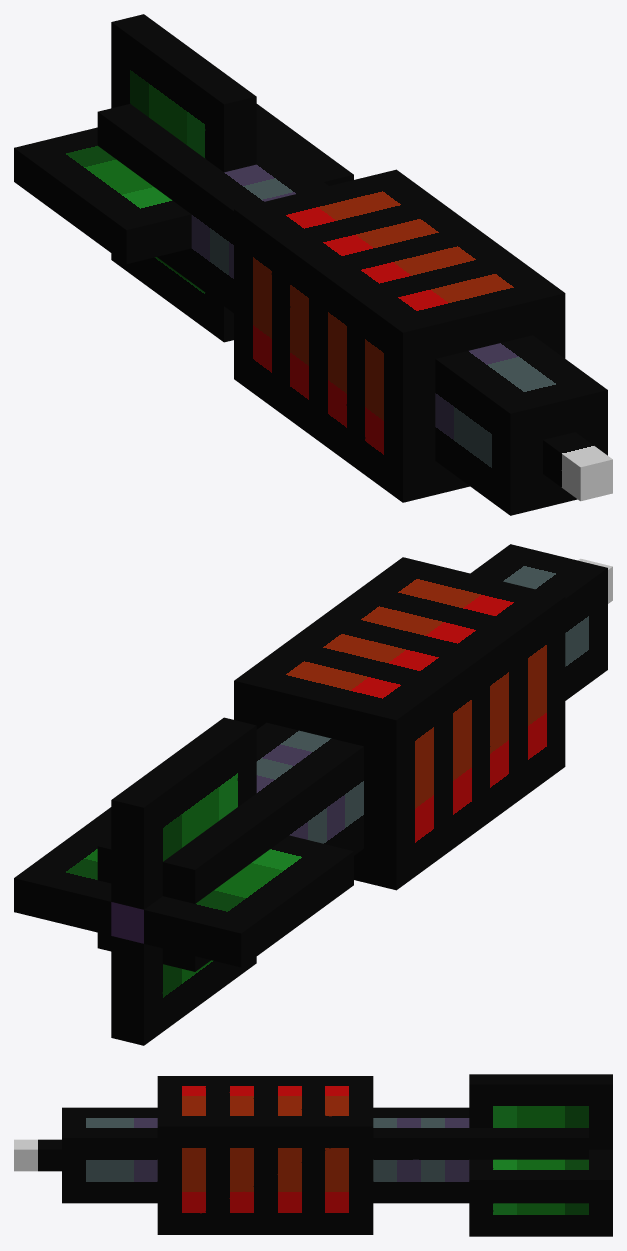
File: combat_darts_rocket.fbx
3 views of the same model, one above another, from view 1: azimuth 30°, elevation 25°; view 2: azimuth 150°, elevation 25°; view 3: azimuth 270°, elevation 25° (orthographic). The views are drawn at different scales.
Visible parts, largest first — view 1: combat_darts_rocket; view 2: combat_darts_rocket; view 3: combat_darts_rocket.
Boxes of the visible parts, x1,y1,x2,y2 form: combat_darts_rocket: (14,14,612,515); combat_darts_rocket: (14,544,612,1045); combat_darts_rocket: (14,1074,612,1236).
Size of the model in its own units: 0.1253 by 0.1253 by 0.4473.
1 material, 1 textured.
